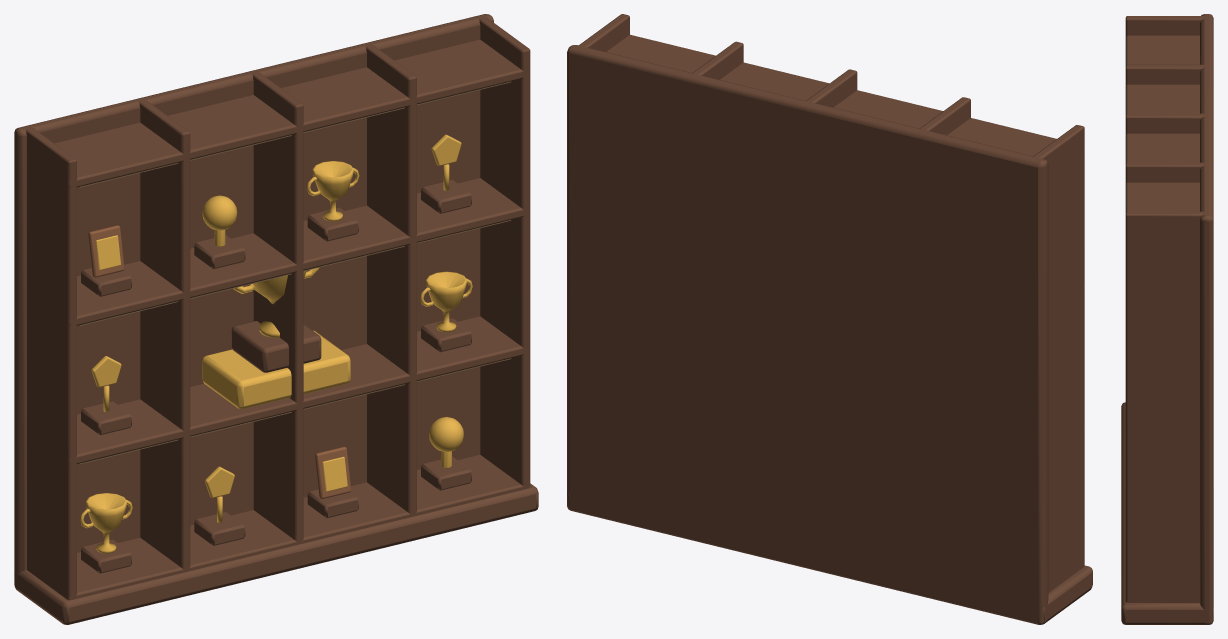
The model's file is trophy_case_l3.glb.
3 renders of one model, left to right at view 1: azimuth 30°, elevation 25°; view 2: azimuth 150°, elevation 25°; view 3: azimuth 270°, elevation 25°, orthographic. The views are drawn at different scales.
Parts seen in each view (by area): view 1: trophy_case_l3, trophy_case_lamp_glow; view 2: trophy_case_l3; view 3: trophy_case_l3.
Boxes of the visible parts, x1,y1,x2,y2 form: trophy_case_l3: [14, 14, 538, 624]; trophy_case_lamp_glow: [80, 81, 511, 463]; trophy_case_l3: [567, 14, 1092, 624]; trophy_case_l3: [1121, 14, 1213, 624].
Size of the model in its own units: 2.1 by 1.95 by 0.4.
